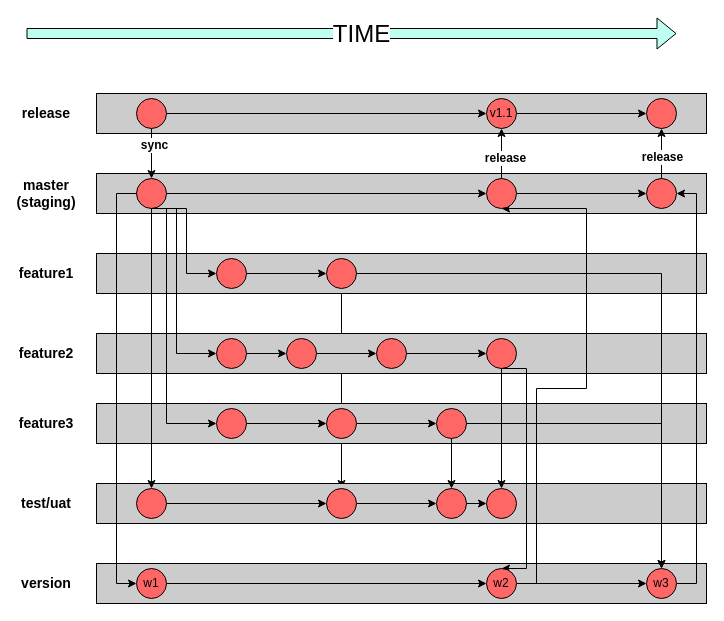
Some shapes in this 724 by 621 pixel diagram are drawn without their labels. The box of each missing label's shape, as (x1, y1, x2, y2) in pixels:
v1.0: (136, 98, 166, 128)
v1.2: (646, 98, 676, 128)
